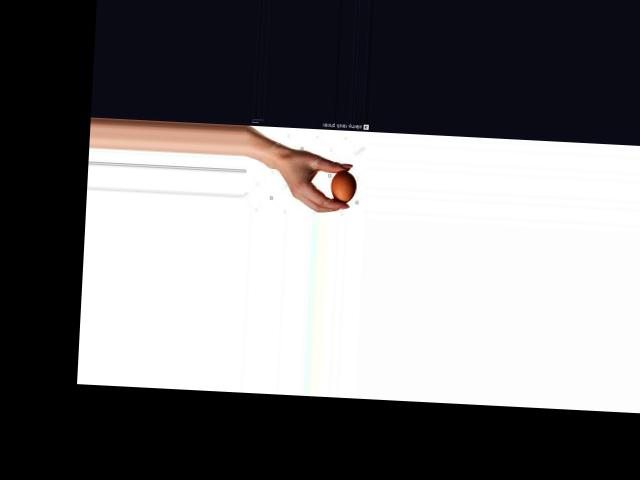egg: (328, 169, 356, 202)
